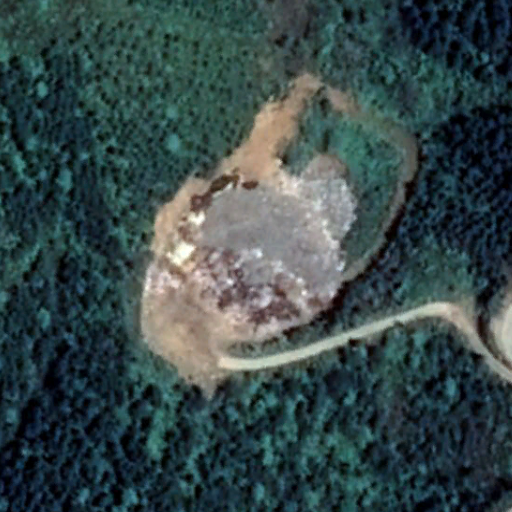msw: (153, 161, 355, 328)
